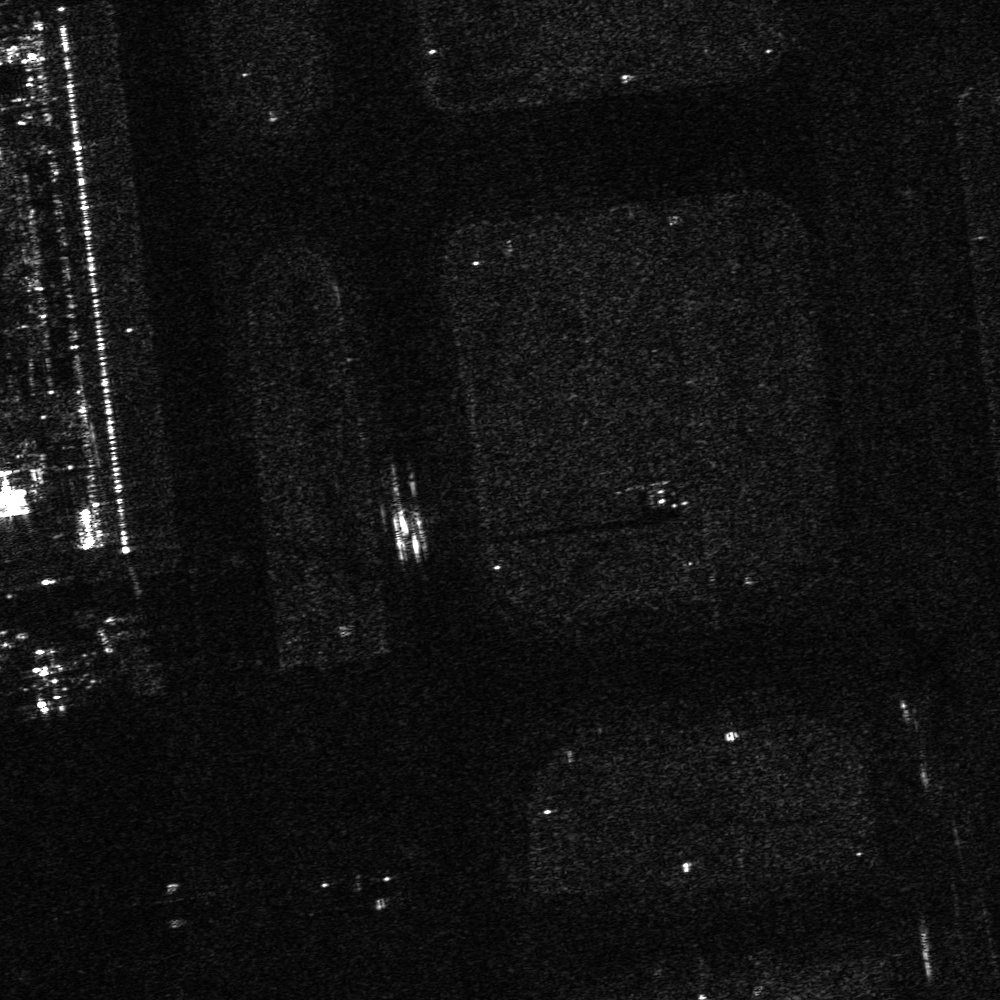Boeing787: (5, 639, 96, 717)
